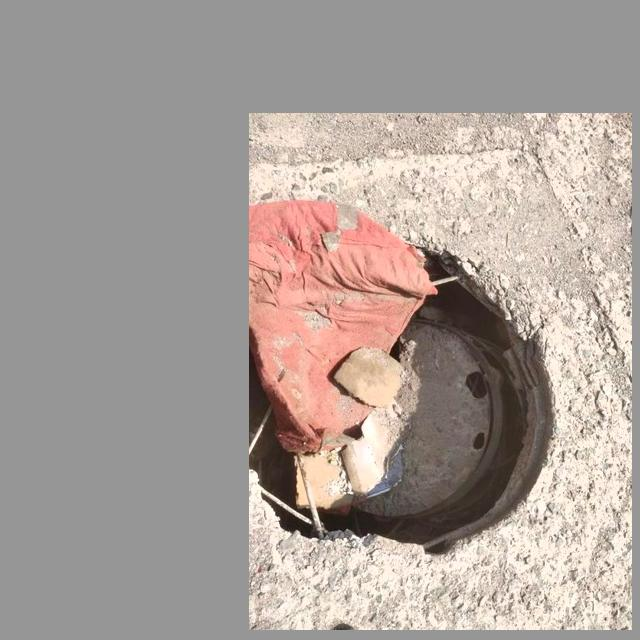broke: (258, 212, 595, 597)
